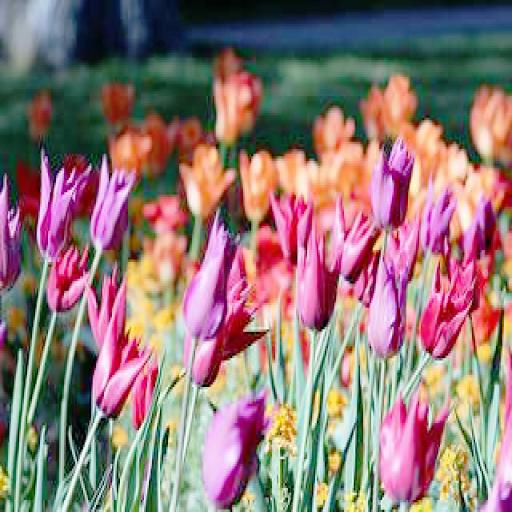tulip: (380, 384, 450, 502), (184, 209, 238, 337), (421, 250, 475, 363), (36, 147, 90, 257), (294, 216, 341, 332), (370, 134, 416, 230), (370, 255, 411, 356), (91, 154, 133, 245)
